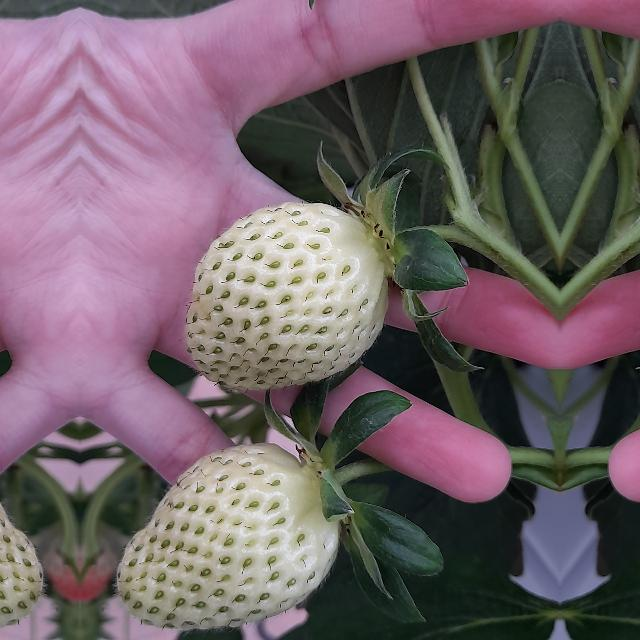Health_25: (111, 441, 346, 635), (185, 202, 388, 390), (0, 441, 48, 635)
